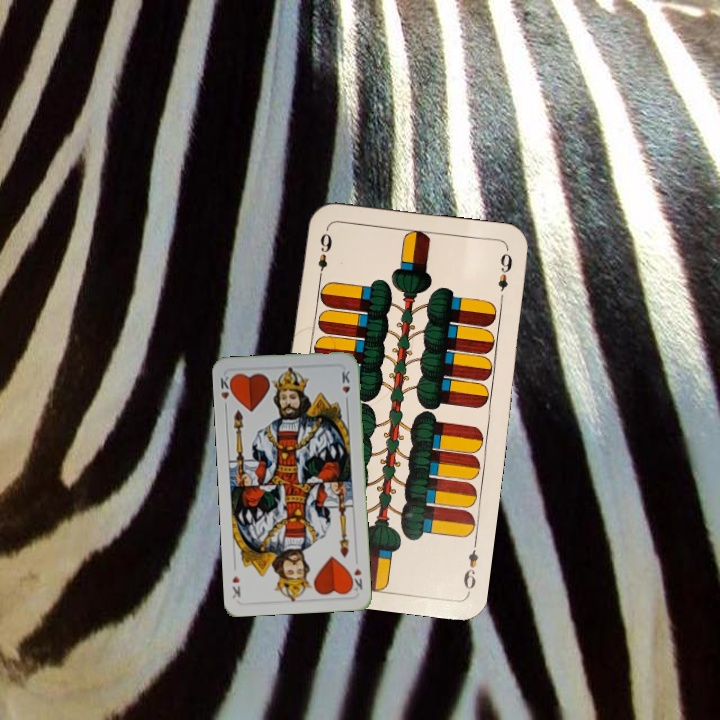E9: (459, 536, 481, 595), (314, 229, 335, 284)
HK: (216, 371, 236, 412), (346, 564, 365, 595)
